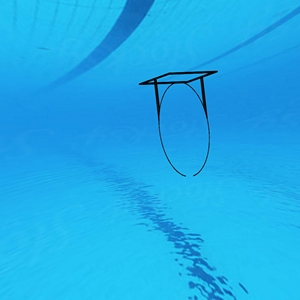circle: (137, 70, 227, 180)
